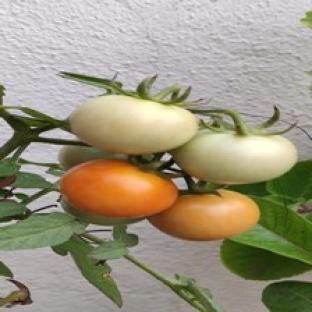Tomato: (70, 95, 197, 154), (60, 159, 178, 217), (172, 130, 296, 185), (148, 190, 260, 240), (62, 200, 143, 225), (58, 145, 126, 169)
